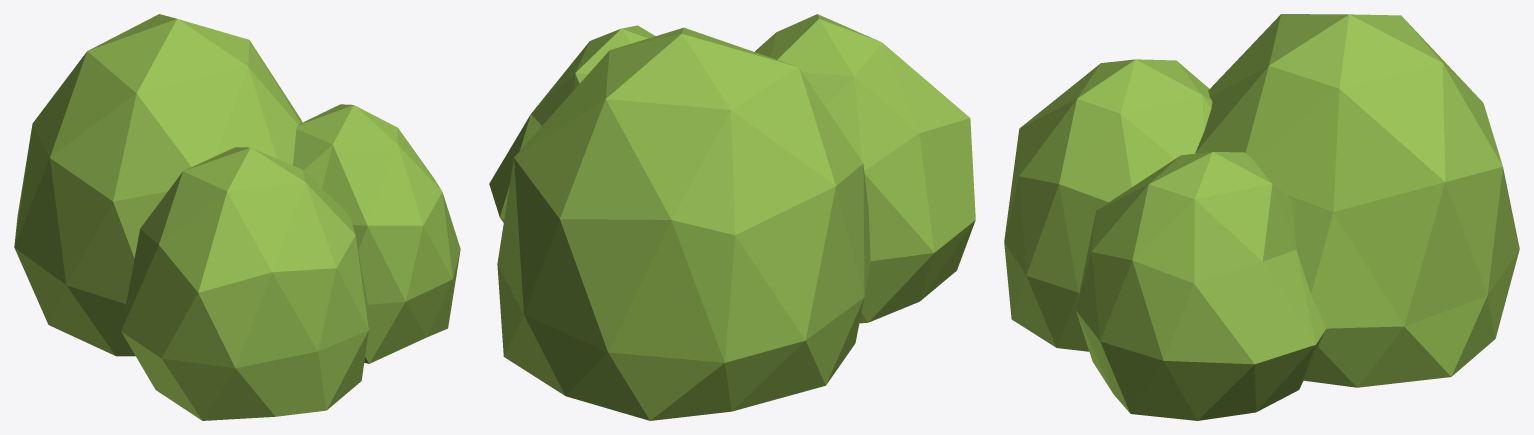
Rendered from Bushes_1.fbx.
3 views of the same model, side by side, from view 1: azimuth 30°, elevation 25°; view 2: azimuth 150°, elevation 25°; view 3: azimuth 270°, elevation 25° (orthographic). The views are drawn at different scales.
Visible parts, largest first — view 1: Bushes_1; view 2: Bushes_1; view 3: Bushes_1.
Part boxes in pixels (<box>): Bushes_1: <box>14,14,460,420</box>; Bushes_1: <box>489,14,975,420</box>; Bushes_1: <box>1004,14,1519,420</box>.
Size of the model in its own units: 224 by 171 by 259.
